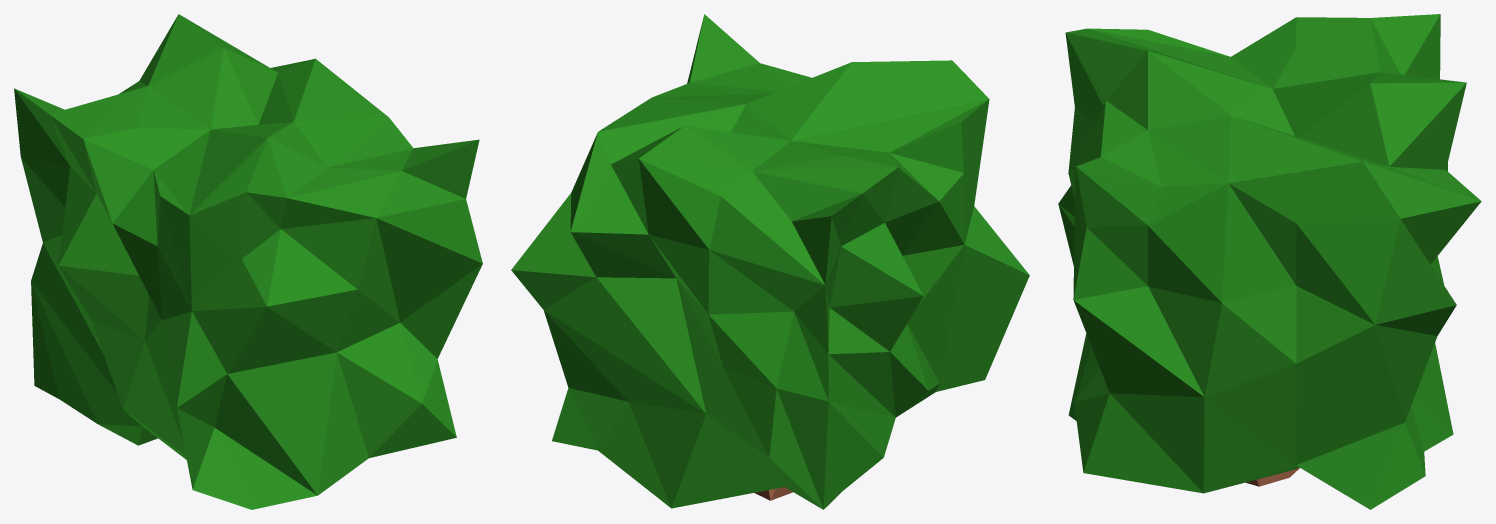
File: Bush_7_summer_pal.fbx
3 renders of one model, left to right at view 1: azimuth 30°, elevation 25°; view 2: azimuth 150°, elevation 25°; view 3: azimuth 270°, elevation 25°, orthographic. The views are drawn at different scales.
Visible parts, largest first — view 1: Bush_7_summer_pal; view 2: Bush_7_summer_pal; view 3: Bush_7_summer_pal.
Part boxes in pixels (x1=…): Bush_7_summer_pal: x1=14, y1=14, x2=482, y2=509; Bush_7_summer_pal: x1=511, y1=14, x2=1029, y2=509; Bush_7_summer_pal: x1=1058, y1=14, x2=1481, y2=509.
Bounding box in the file's own units: 47.57 × 52.13 × 49.43.
